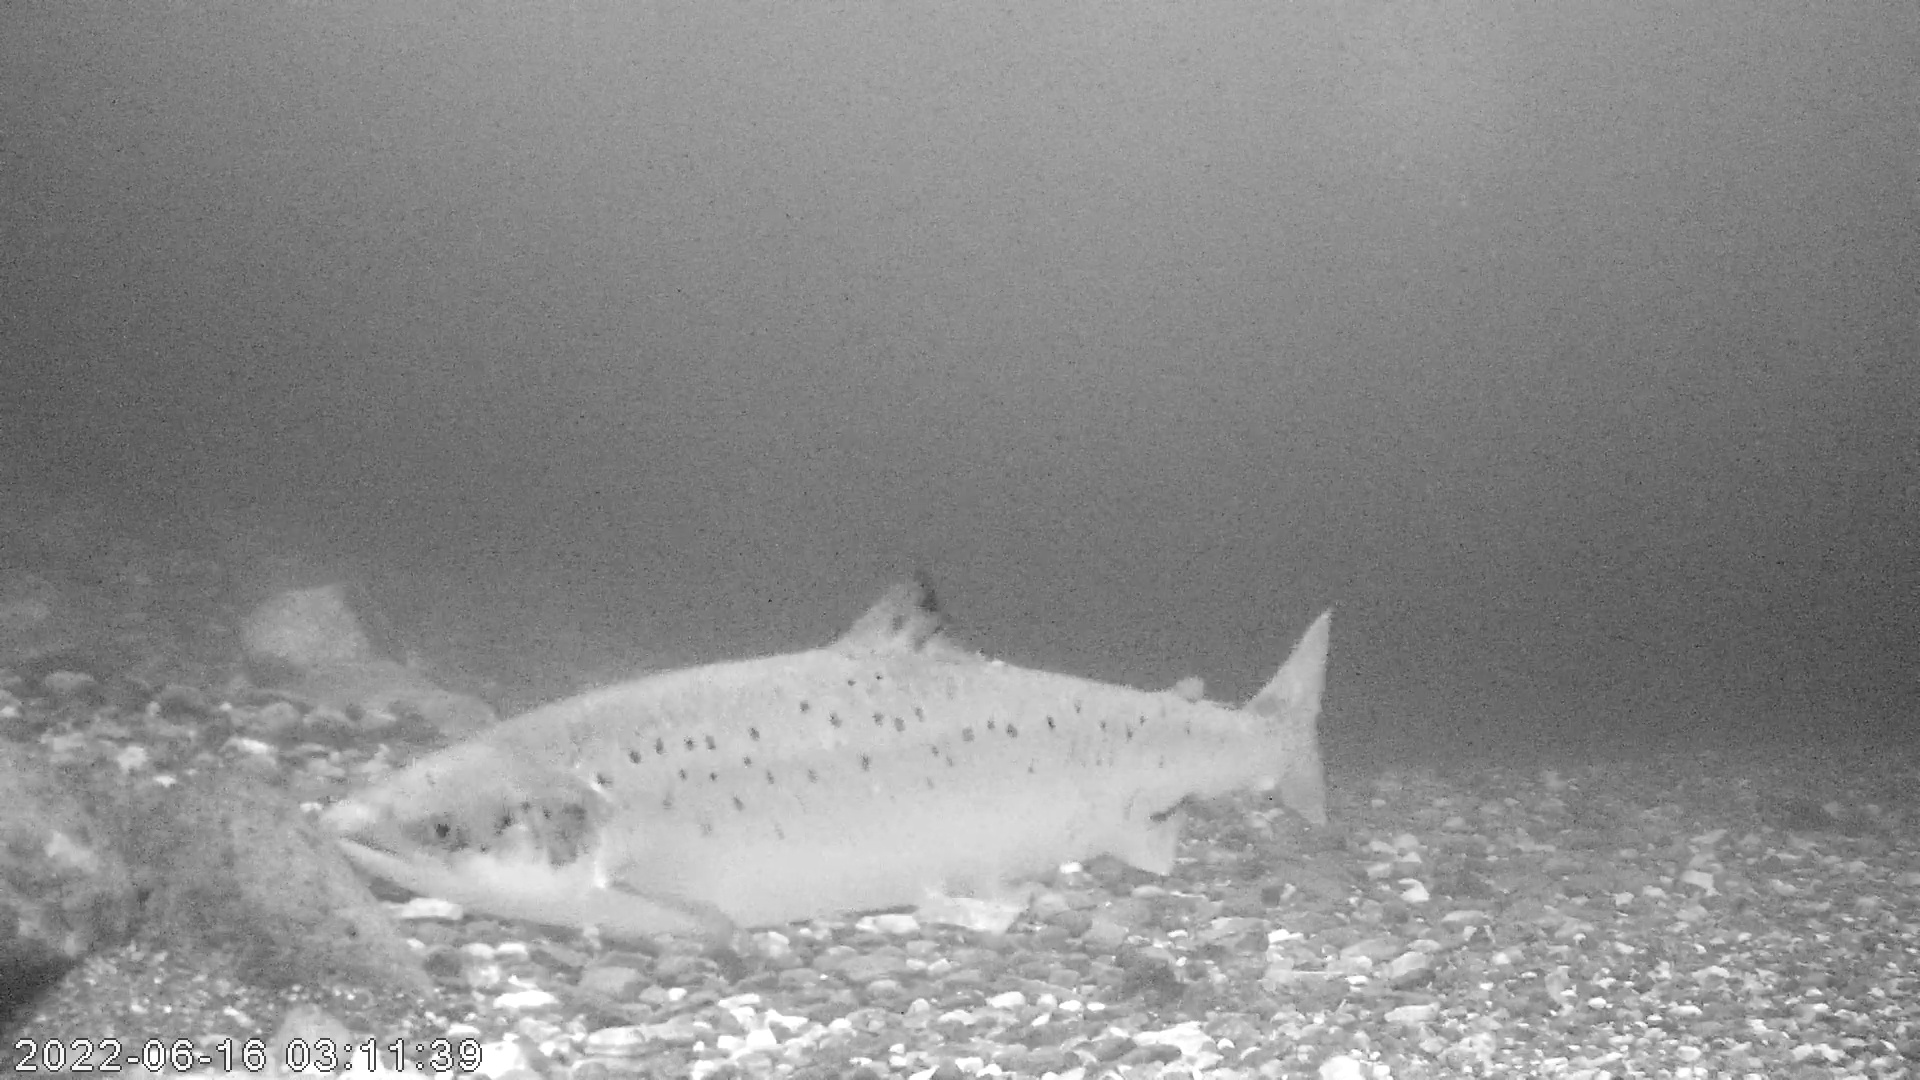salmon: (320, 564, 1337, 945)
